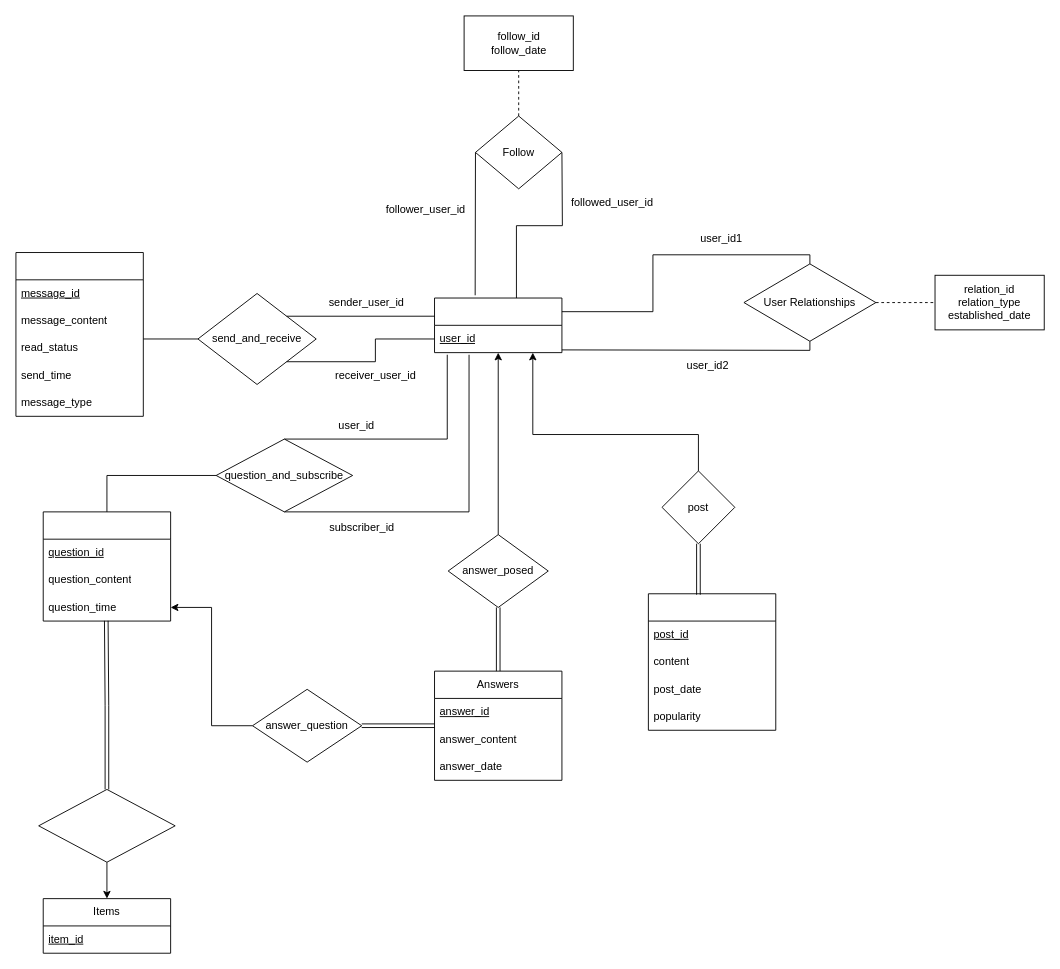
Some shapes in this 1060 by 969 pixel diagram are drawn without their labels. The shapes that lost their labels are listed below. From the top down, each one's box as (x1, y1, x2, y2) in pixels, then its label:
(15, 252, 143, 416): User Messages
(434, 297, 562, 353): Users
(42, 511, 171, 621): Questions
(647, 593, 776, 730): User Posts
(38, 789, 175, 862): question_about_items
